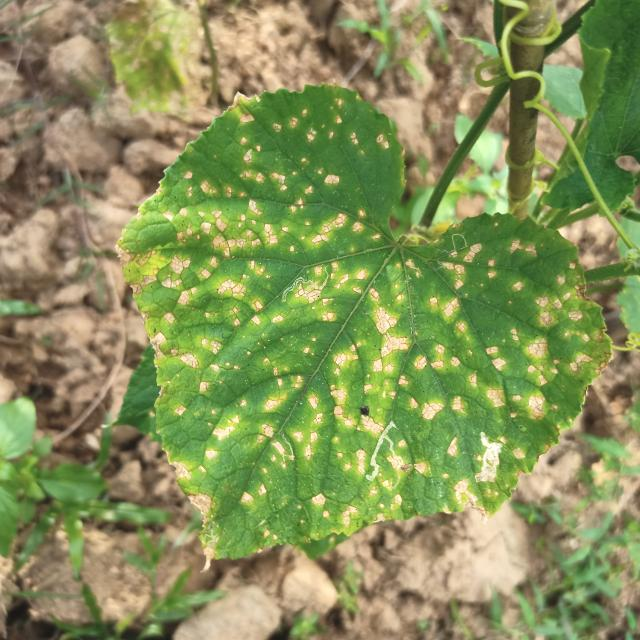disease_cucumber: (130, 114, 588, 528)
